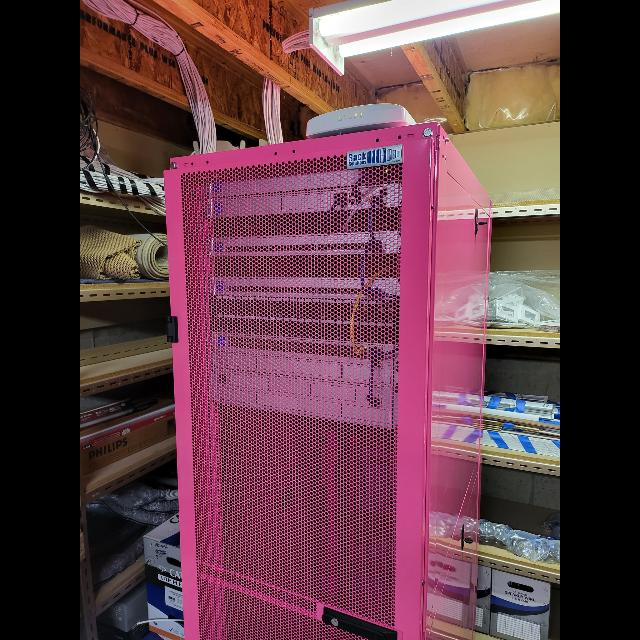Server: (153, 110, 471, 640)
